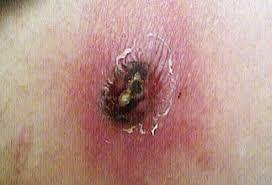Spider: (101, 48, 172, 130)
